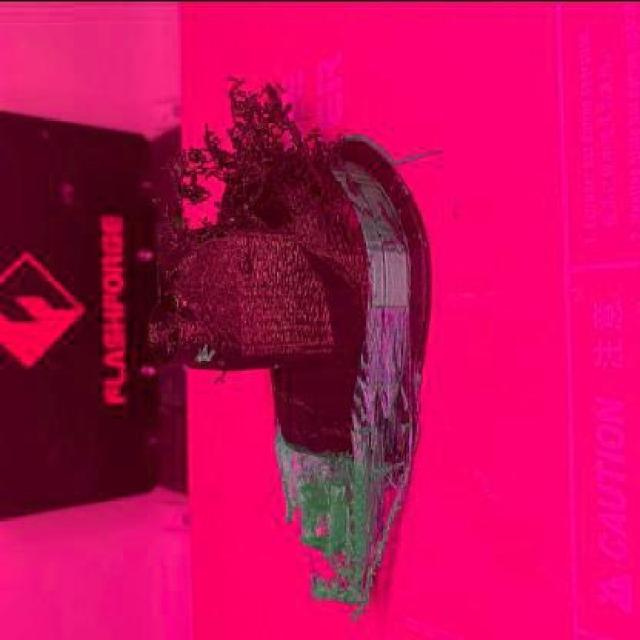Spaghetti: (152, 75, 359, 242), (270, 444, 407, 618)
